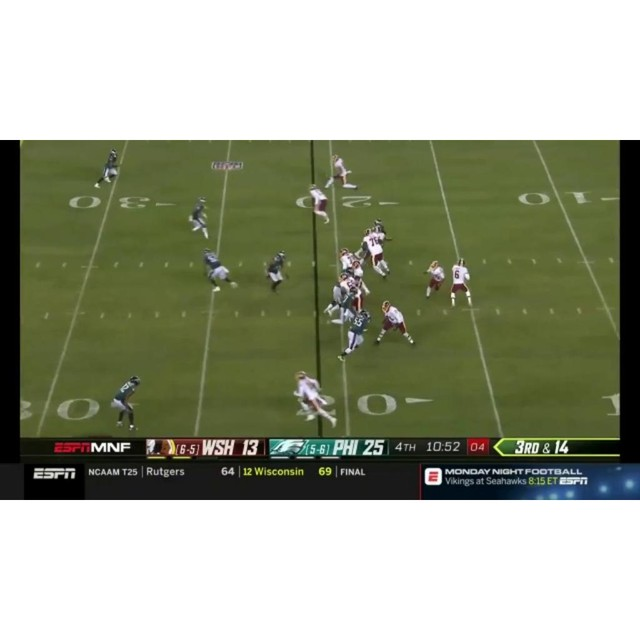american-football-player: (294, 376, 338, 426), (337, 309, 371, 362), (376, 301, 415, 347), (111, 375, 141, 432), (203, 249, 238, 293), (363, 228, 391, 279), (323, 271, 352, 316), (328, 286, 359, 325), (449, 258, 472, 309), (325, 154, 358, 189), (264, 249, 289, 294), (188, 196, 211, 240), (94, 148, 119, 188), (308, 184, 330, 224), (423, 260, 445, 299), (338, 247, 360, 272)
